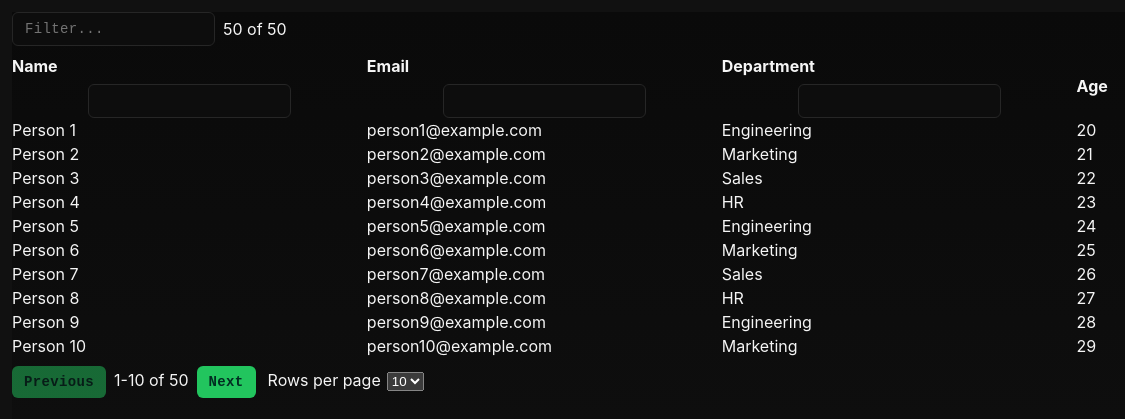
Scenario: DataTable - Filtering › resets pagination to page 1 when filter changes
The image size is (1125, 419).
Navigate to page 2
Click the button "Next" at (226, 382), box [197,366,256,398]
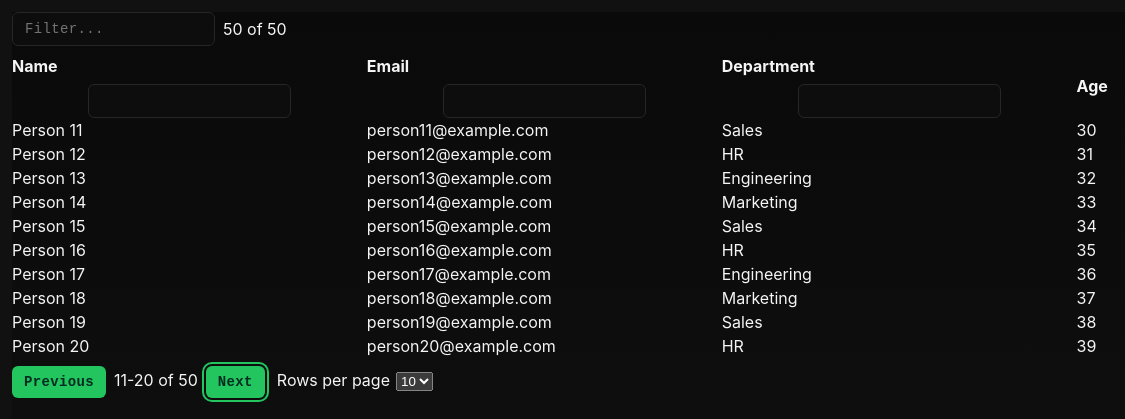
Expected: the text "11-20 of 50" is shown, [114,370,198,390]
Apply filter
Type "Person 1" into the search field labelled "Filter..." at (114, 29), box [12,12,215,46]
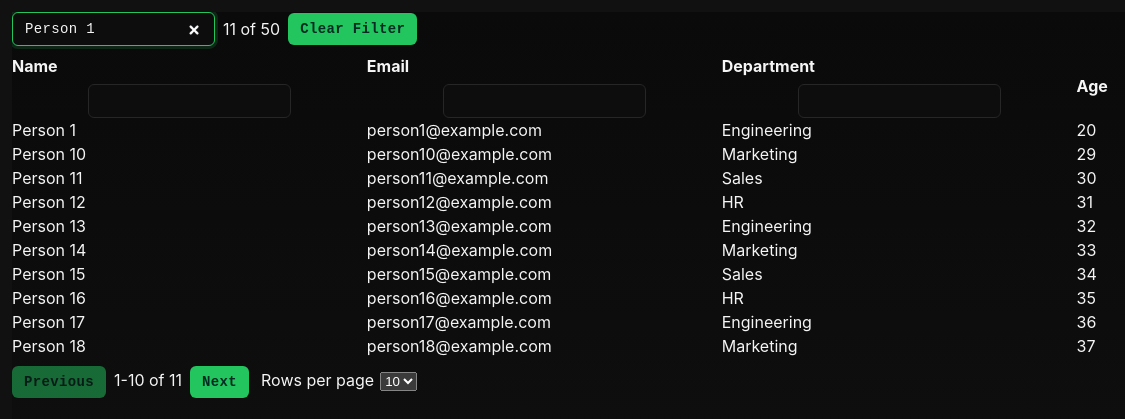
Expected: the text "1-10 of 11" is shown, [114,370,182,390]
